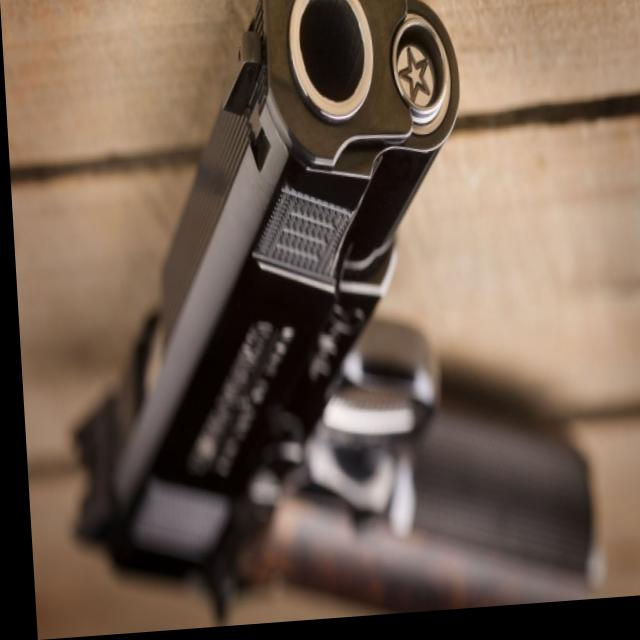handgun: (43, 0, 602, 636)
